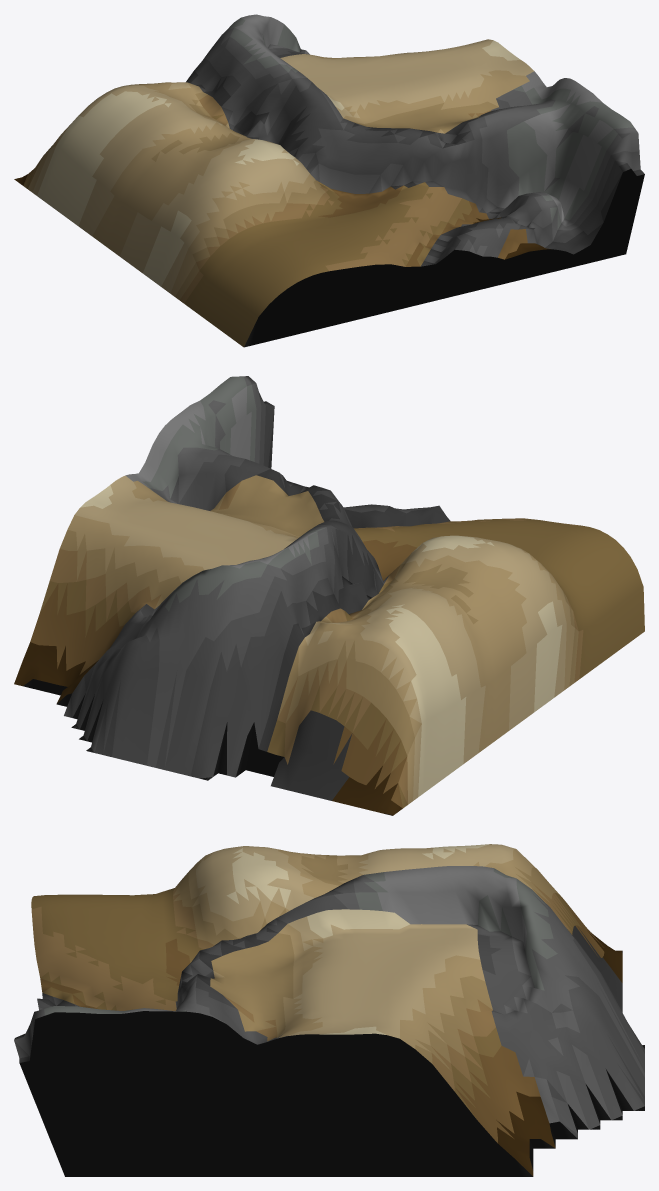
The model's file is rock_machine_tl_damaged.glb.
The picture shows the model from 3 angles, top to bottom: view 1: azimuth 30°, elevation 25°; view 2: azimuth 150°, elevation 25°; view 3: azimuth 270°, elevation 25°; orthographic projection. The views are drawn at different scales.
Parts seen in each view (by area): view 1: rock_machine_tl_damaged; view 2: rock_machine_tl_damaged; view 3: rock_machine_tl_damaged.
Part boxes in pixels (left/top/right/bottom): rock_machine_tl_damaged: left=14, top=14, right=644, bottom=347; rock_machine_tl_damaged: left=14, top=376, right=644, bottom=815; rock_machine_tl_damaged: left=14, top=844, right=644, bottom=1176.
Size of the model in its own units: 24 by 9.09 by 28.29.
